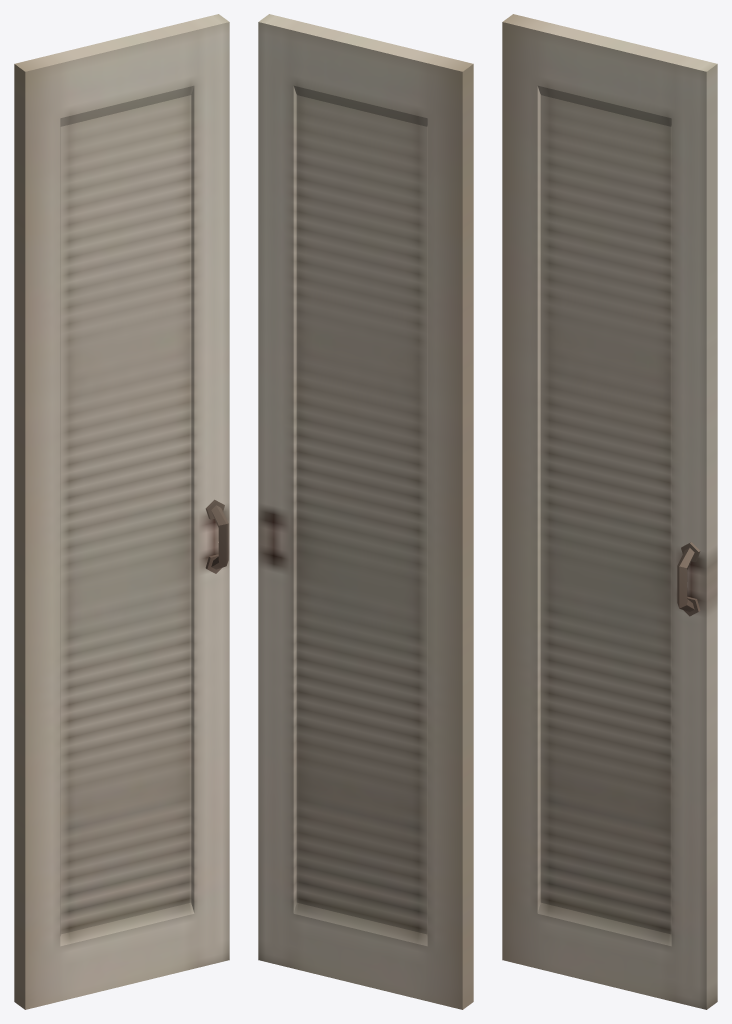
File: closet_door_2.glb
3 views of the same model, side by side, from view 1: azimuth 30°, elevation 25°; view 2: azimuth 150°, elevation 25°; view 3: azimuth 330°, elevation 25° (orthographic).
Parts seen in each view (by area): view 1: Closet Door_002.001; view 2: Closet Door_002.001; view 3: Closet Door_002.001.
Part boxes in pixels (x1,y1,x2,y2): Closet Door_002.001: (14, 14, 229, 1009); Closet Door_002.001: (258, 14, 473, 1009); Closet Door_002.001: (502, 14, 717, 1009).
Bounding box in the file's own units: 0.5085 × 2.23 × 0.0997.
1 material, 1 textured.
